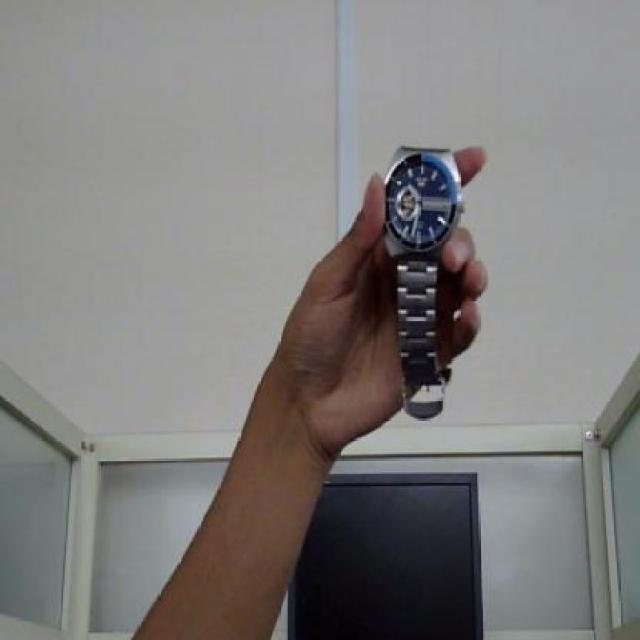Metal: (379, 141, 460, 426)
